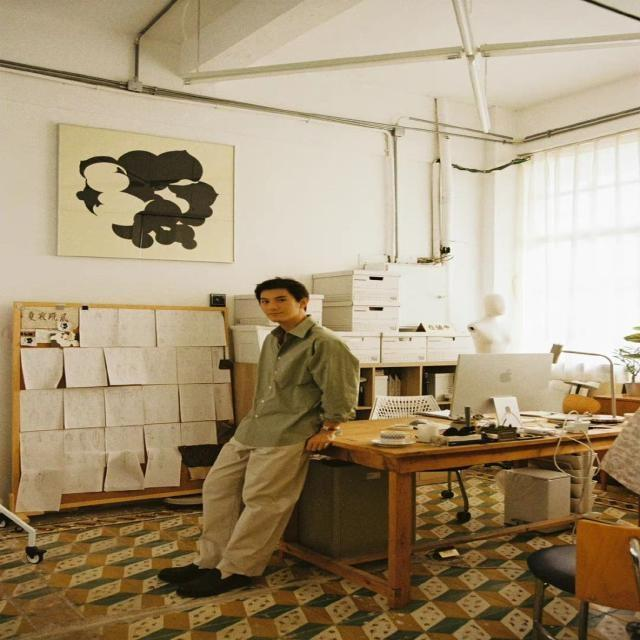obstacle: (300, 410, 632, 608), (525, 518, 639, 640)
person: (157, 276, 360, 597)
